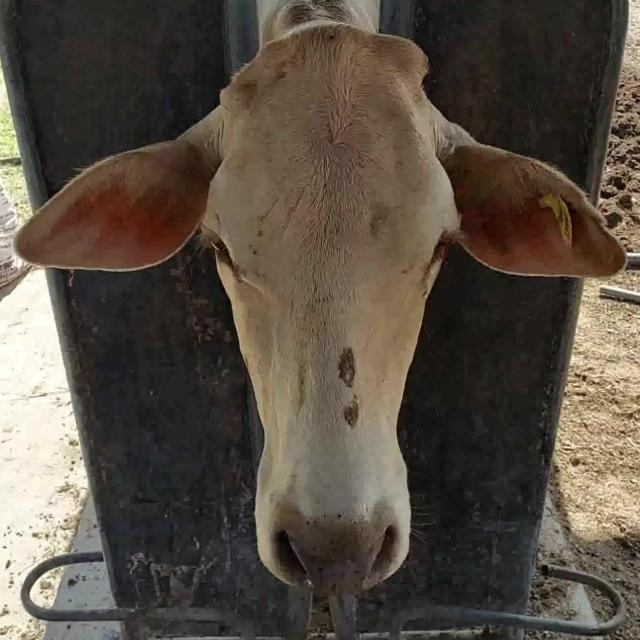cowFace: (202, 24, 462, 588)
